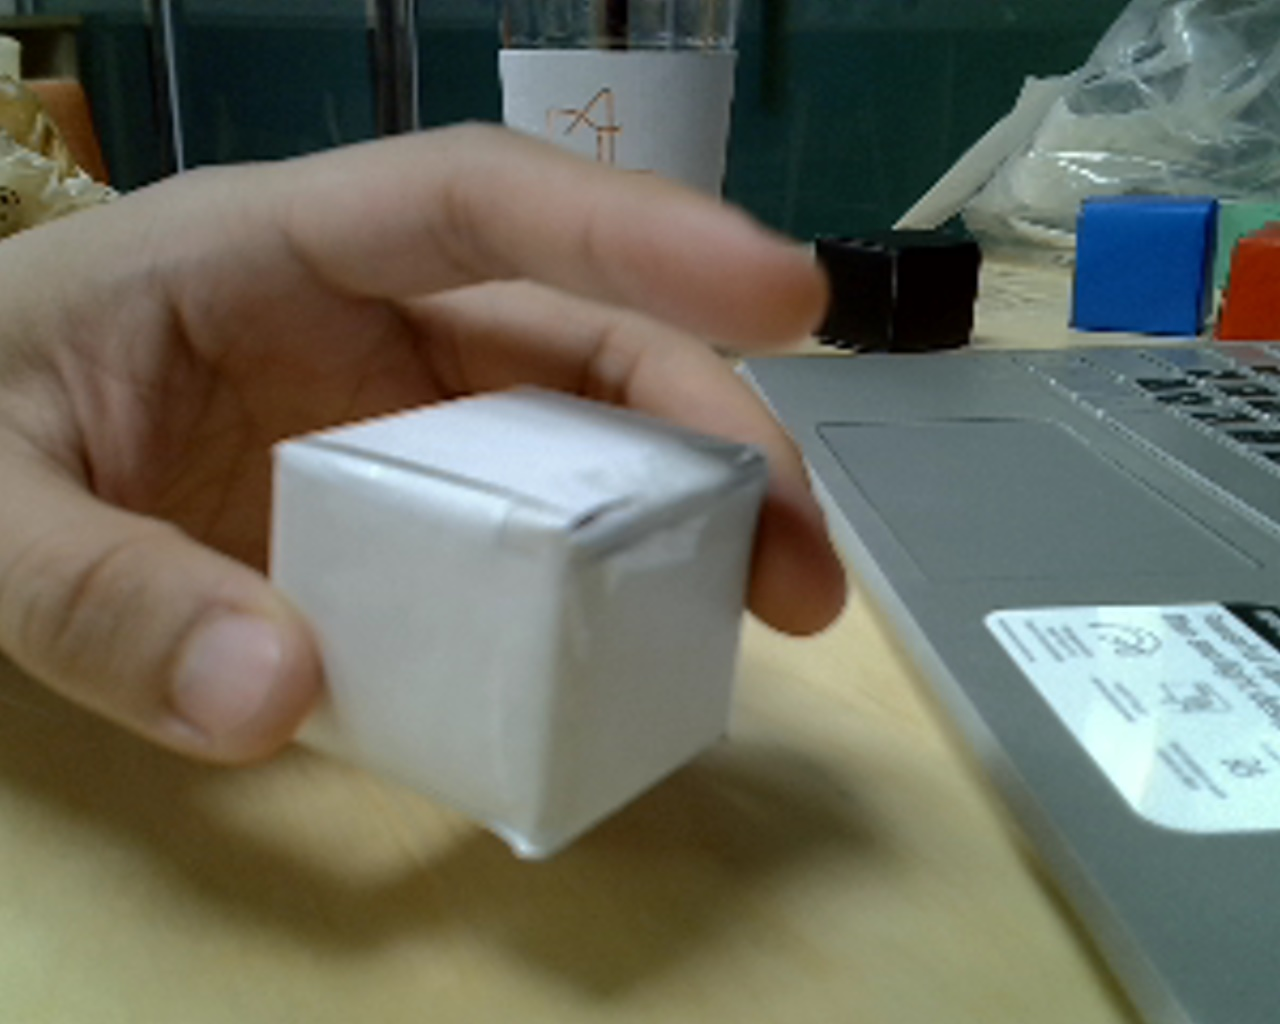whitebox: (238, 375, 786, 883)
